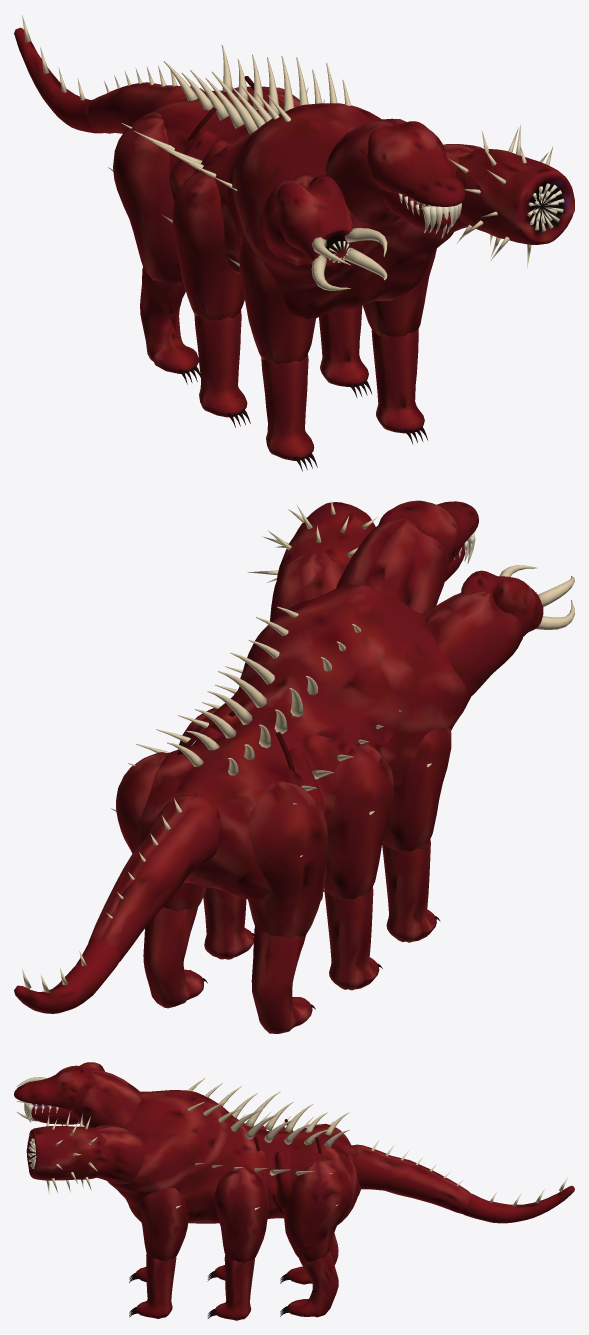
File: kerberos.glb
The picture shows the model from 3 angles, top to bottom: view 1: azimuth 30°, elevation 25°; view 2: azimuth 150°, elevation 25°; view 3: azimuth 270°, elevation 25°; orthographic projection. The views are drawn at different scales.
Parts seen in each view (by area): view 1: P_torso, P_neckC, P_neckL, P_legBR, P_legMR, P_neckR, P_legFR, P_kneeFL, P_kneeMR, P_kneeFR, P_kneeBR, P_tail (+6 smaller); view 2: P_torso, P_legBR, P_neckC, P_tail, P_neckR, P_legMR, P_neckL, P_legFR, P_kneeBR, P_kneeBL, P_kneeFR, P_kneeMR (+4 smaller); view 3: P_torso, P_neckL, P_neckC, P_legBL, P_tail, P_legML, P_legFL, P_tail2, P_kneeBL, P_kneeFL, P_kneeML, P_jawC (+1 smaller).
Boxes of the visible parts, bbox=[...] form: P_torso: bbox=[121, 45, 453, 319]; P_neckC: bbox=[325, 118, 465, 237]; P_neckL: bbox=[442, 124, 574, 268]; P_legBR: bbox=[108, 112, 183, 283]; P_legMR: bbox=[161, 170, 244, 320]; P_neckR: bbox=[262, 174, 356, 267]; P_legFR: bbox=[228, 237, 315, 364]; P_kneeFL: bbox=[371, 329, 427, 444]; P_kneeMR: bbox=[194, 310, 250, 427]; P_kneeFR: bbox=[261, 354, 317, 471]; P_kneeBR: bbox=[140, 267, 200, 384]; P_tail: bbox=[87, 65, 204, 133]; P_torso: bbox=[128, 584, 470, 900]; P_legBR: bbox=[248, 781, 328, 938]; P_neckC: bbox=[336, 500, 478, 614]; P_tail: bbox=[88, 792, 221, 961]; P_neckR: bbox=[425, 570, 543, 696]; P_legMR: bbox=[324, 743, 393, 899]; P_neckL: bbox=[247, 500, 378, 621]; P_legFR: bbox=[382, 728, 451, 852]; P_kneeBR: bbox=[251, 927, 315, 1033]; P_kneeBL: bbox=[143, 907, 207, 1008]; P_kneeFR: bbox=[382, 839, 440, 942]; P_kneeMR: bbox=[324, 887, 382, 990]; P_torso: bbox=[107, 1077, 360, 1224]; P_neckL: bbox=[26, 1111, 144, 1194]; P_neckC: bbox=[14, 1065, 140, 1127]; P_legBL: bbox=[284, 1159, 352, 1261]; P_tail: bbox=[349, 1140, 471, 1213]; P_legML: bbox=[215, 1167, 269, 1262]; P_legFL: bbox=[140, 1188, 188, 1261]; P_tail2: bbox=[461, 1177, 574, 1223]; P_kneeBL: bbox=[280, 1251, 338, 1317]; P_kneeFL: bbox=[129, 1253, 176, 1318]; P_kneeML: bbox=[207, 1255, 254, 1320]; P_jawC: bbox=[24, 1103, 79, 1124].
Size of the model in its own units: 1.94 by 2.5 by 5.5.
